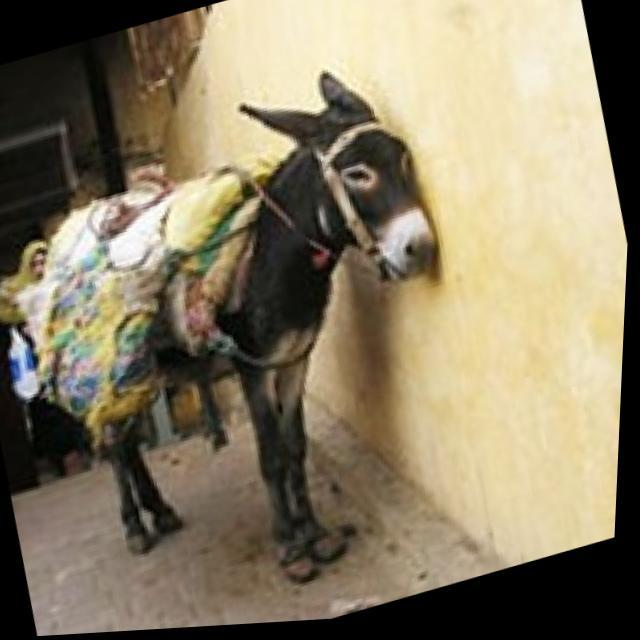Donkey: (0, 31, 495, 640)
